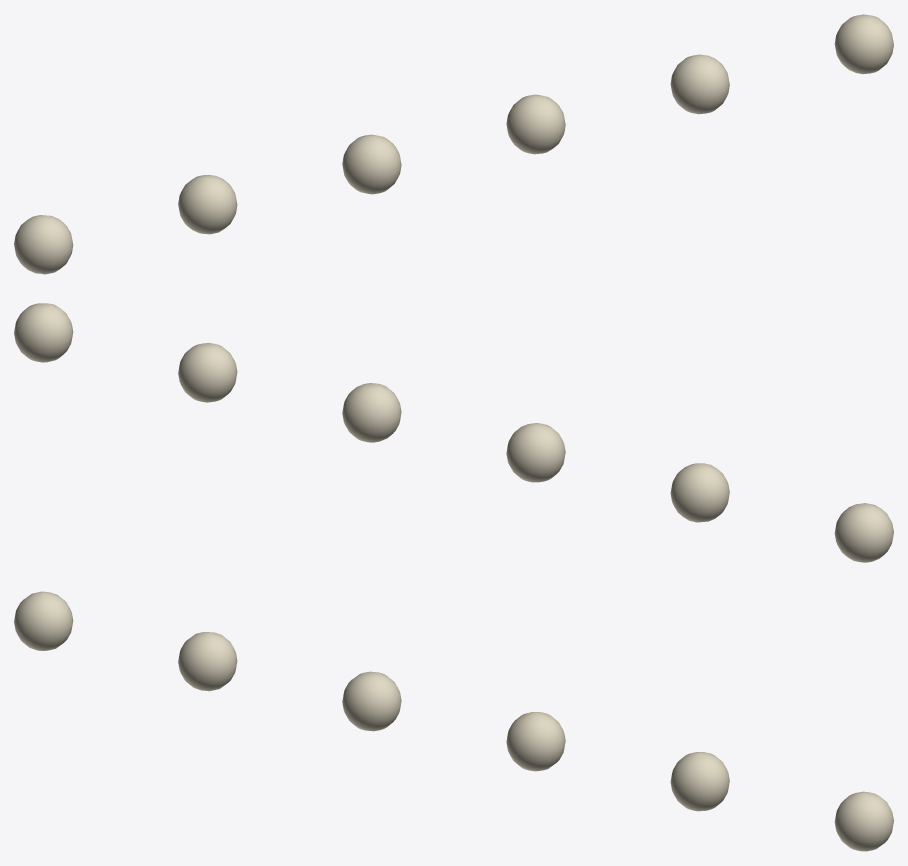
File: lights.glb
3 views of the same model, one above another, from view 1: azimuth 30°, elevation 25°; view 2: azimuth 150°, elevation 25°; view 3: azimuth 330°, elevation 25° (orthographic).
Visible parts, largest first — view 1: Gelati_lights; view 2: Gelati_lights; view 3: Gelati_lights.
Boxes of the visible parts, x1,y1,x2,y2 form: Gelati_lights: (14,14,893,274); Gelati_lights: (14,303,893,562); Gelati_lights: (14,591,893,851).
Size of the model in its own units: 5.53 by 0.3319 by 0.3224.
